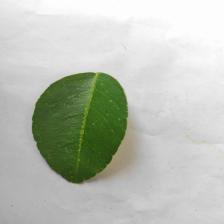greening: (63, 86, 123, 162)
